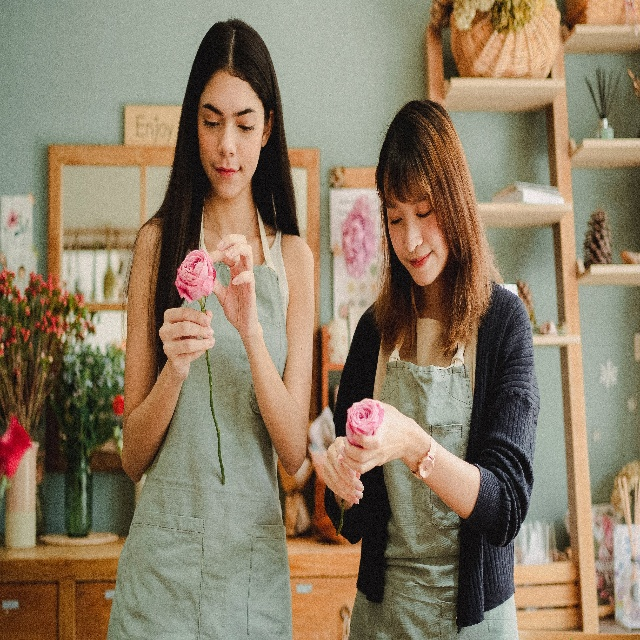Sin_guantes: (210, 233, 261, 345), (341, 400, 407, 468), (161, 306, 216, 372), (323, 434, 364, 508)
